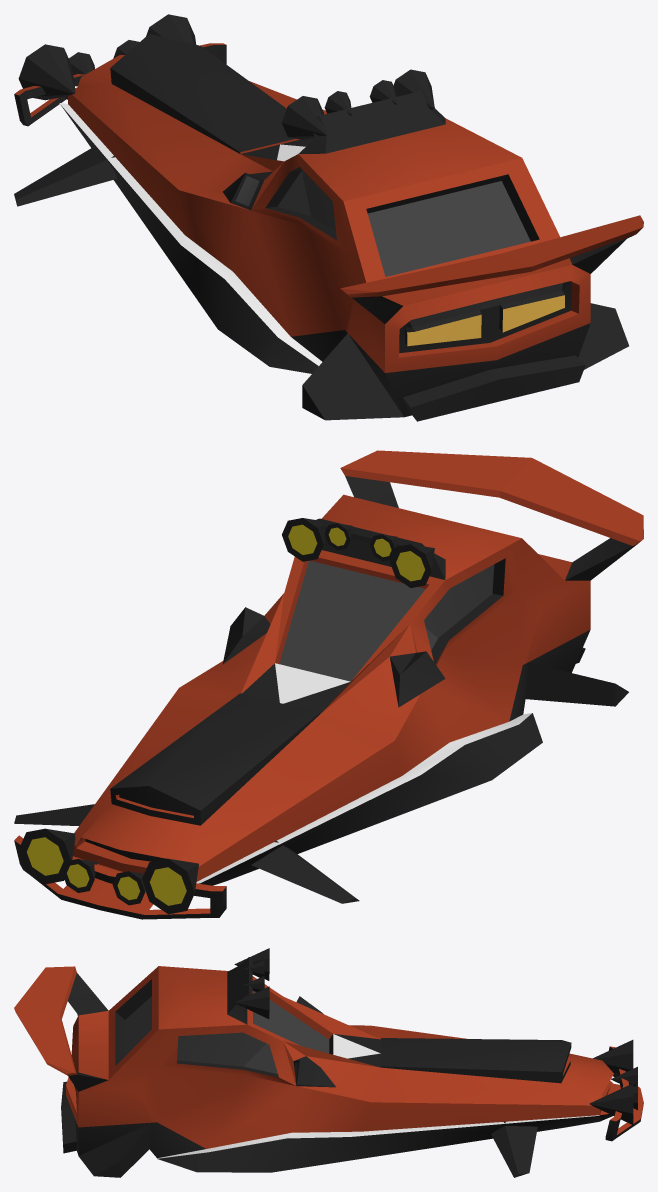
The model's file is buggy3.glb.
3 renders of one model, top to bottom at view 1: azimuth 30°, elevation 25°; view 2: azimuth 150°, elevation 25°; view 3: azimuth 270°, elevation 25°, orthographic. The views are drawn at different scales.
Visible parts, largest first — view 1: buggy1; view 2: buggy1; view 3: buggy1.
Part boxes in pixels (box(x1,y1,x2,y2)): buggy1: box(14, 14, 643, 421); buggy1: box(14, 450, 643, 919); buggy1: box(14, 948, 643, 1177).
Size of the model in its own units: 1.16 by 0.7064 by 2.54.
Materials: 1 (1 with a texture image).
